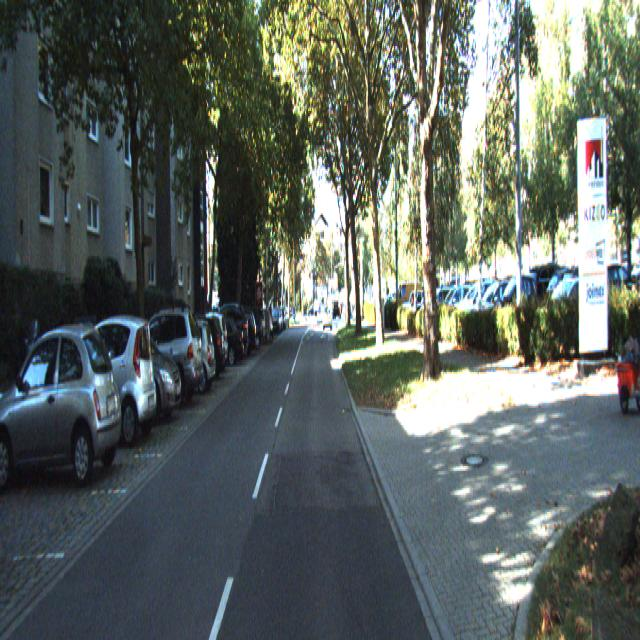Car: (0, 320, 123, 493), (52, 310, 160, 445), (87, 316, 183, 425), (120, 298, 204, 406), (151, 311, 217, 394), (167, 310, 224, 376), (184, 308, 228, 377), (198, 314, 244, 367), (208, 298, 248, 357), (218, 304, 257, 357), (226, 304, 263, 351)
DontCare: (390, 267, 639, 325), (611, 304, 639, 420), (305, 297, 348, 334), (264, 290, 290, 341)
